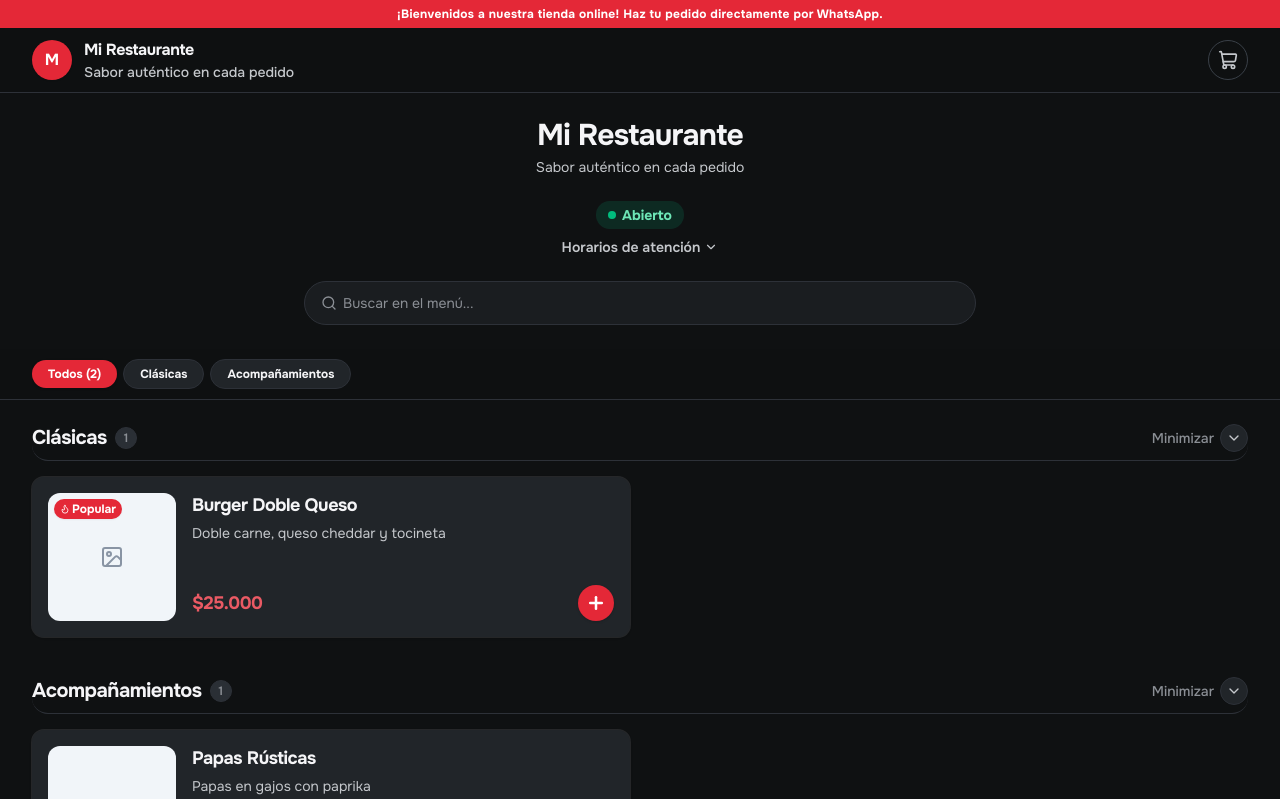
Scenario: Home - opening status › picks up a pause made on another device when the tab becomes visible, without losing UI state
This screenshot has width=1280, height=799.
In the search field with placeholder "Buscar en el menú...": x=654, y=303 [337, 281, 971, 325], type "a"
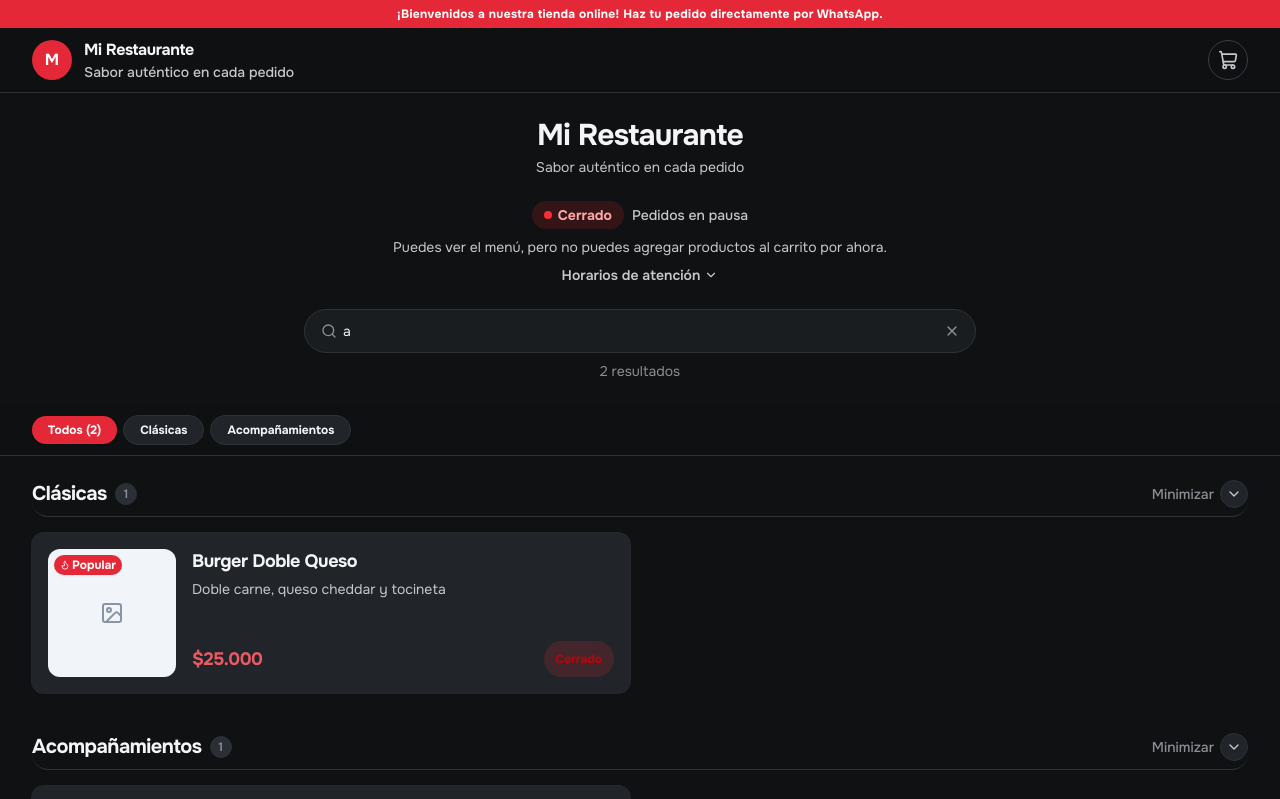
Check: the text "Abierto" is shown, box [532, 201, 624, 229]
Check: the text "Pedidos en pausa" is shown, box [632, 205, 748, 225]
Check: the text "Abierto" is gone
